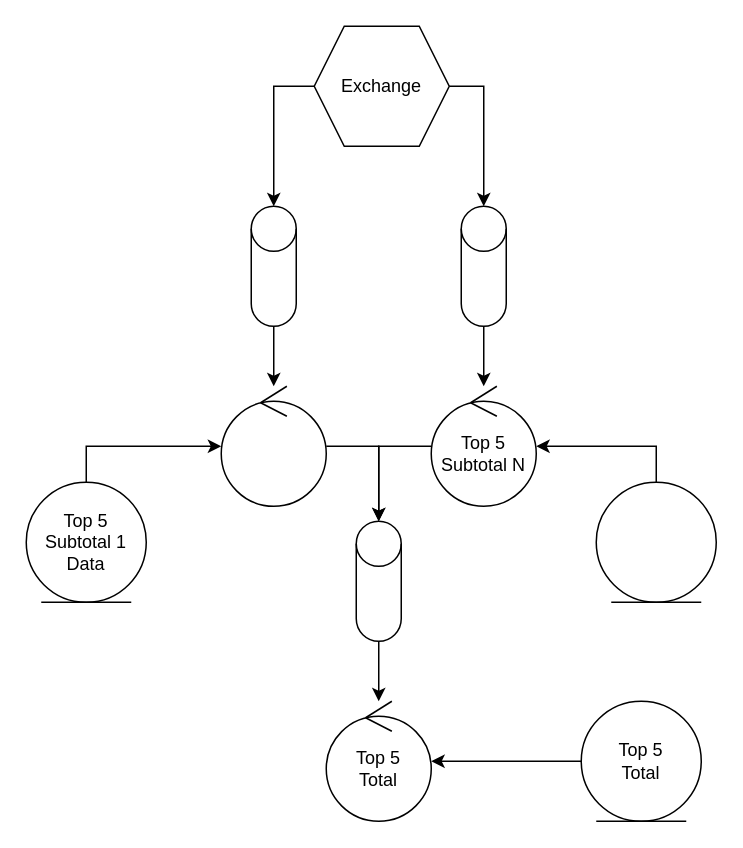
Image size: 743x848. Some labels were removed from this diagram. Here are the shapes that lost their labels. From the top down, the centre of each, then its label:
[273,445]: Top 5 Subtotal 1
[655,541]: Top 5 Subtotal N Data
